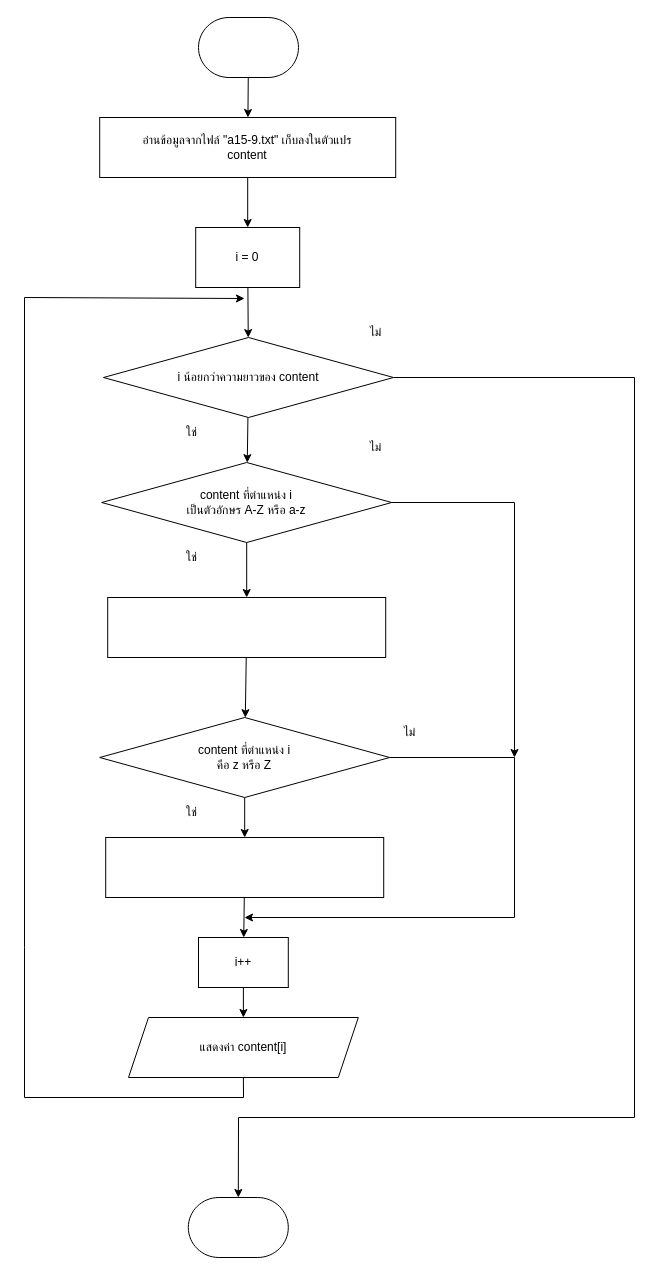
Some shapes in this 660 by 1275 pixel diagram are drawn without their labels. Here are the shapes that lost their labels. From the top down, the centre of each, then its label:
At [248,47]: "Start".
At [246,627]: "เลื่อน content[i] ไป +6 อักขระ".
At [244,867]: "เลื่อน content[i] ไป -26 อักขระ".
At [237,1227]: "End".
